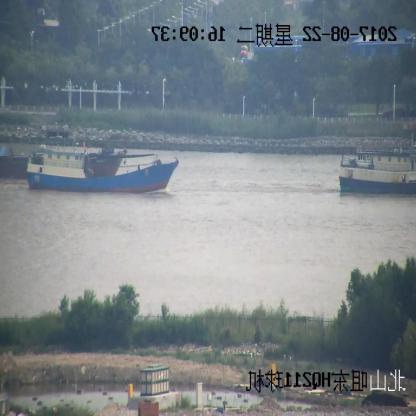Fishing Boat: (26, 139, 176, 194), (338, 145, 416, 196)
